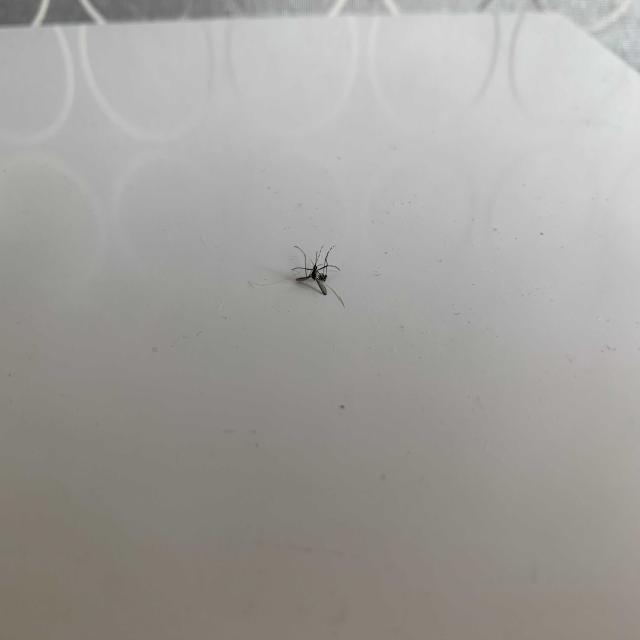albopictus: (287, 236, 343, 306)
